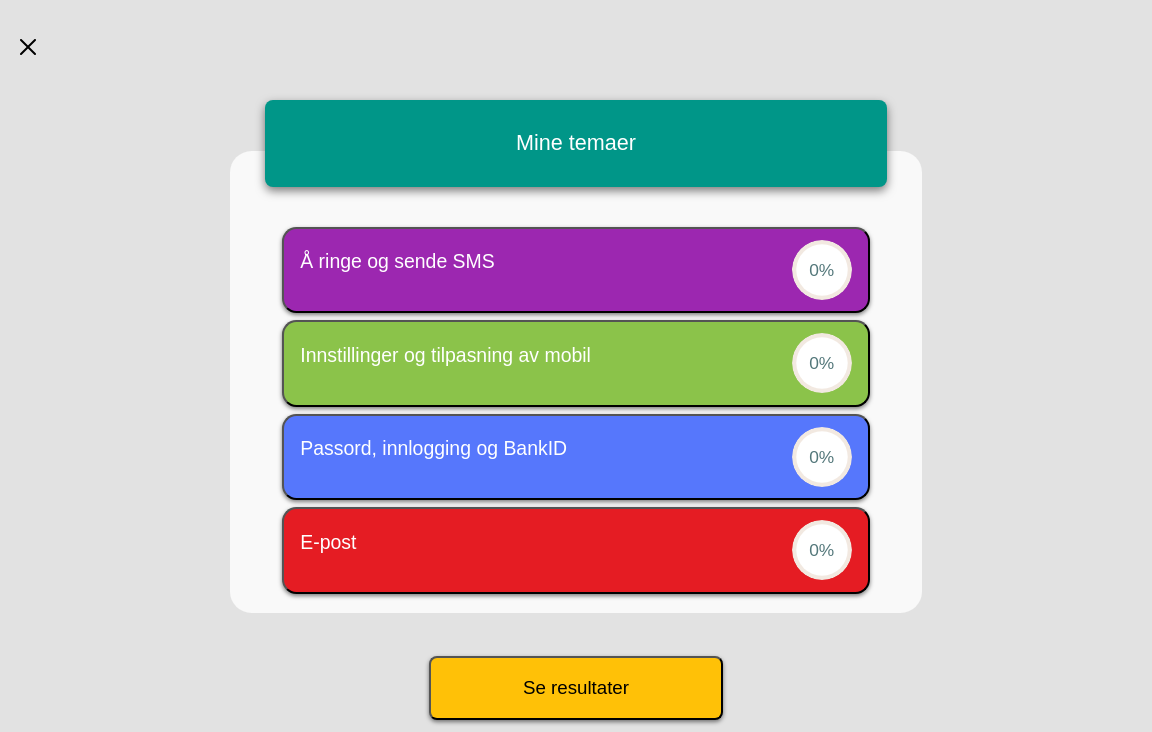
Test: Passwords-and-login › subject button is clickable and renders create password
The width and height of the screenshot is (1152, 732).
Click the button with class "subject-btn" that starts with "Passord, innlogging og BankID": (434, 448) [282,414,870,500]
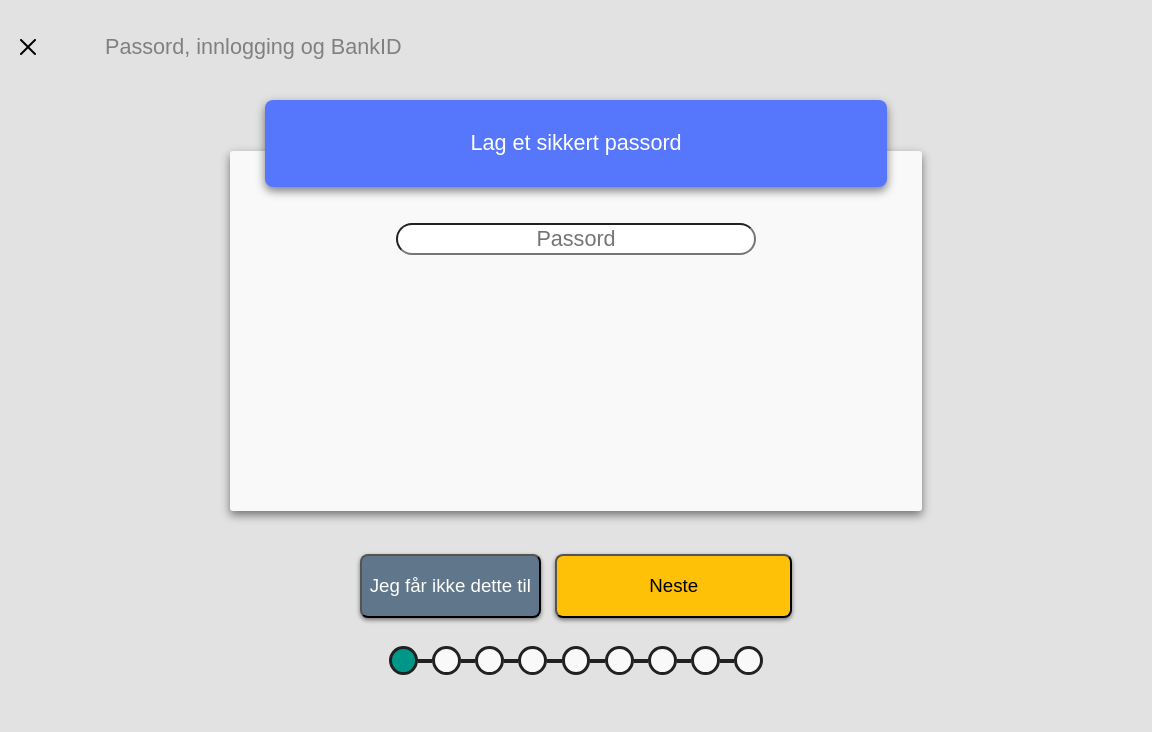
Expected: the heading "Lag et sikkert passord" is shown, [470,130,682,156]
